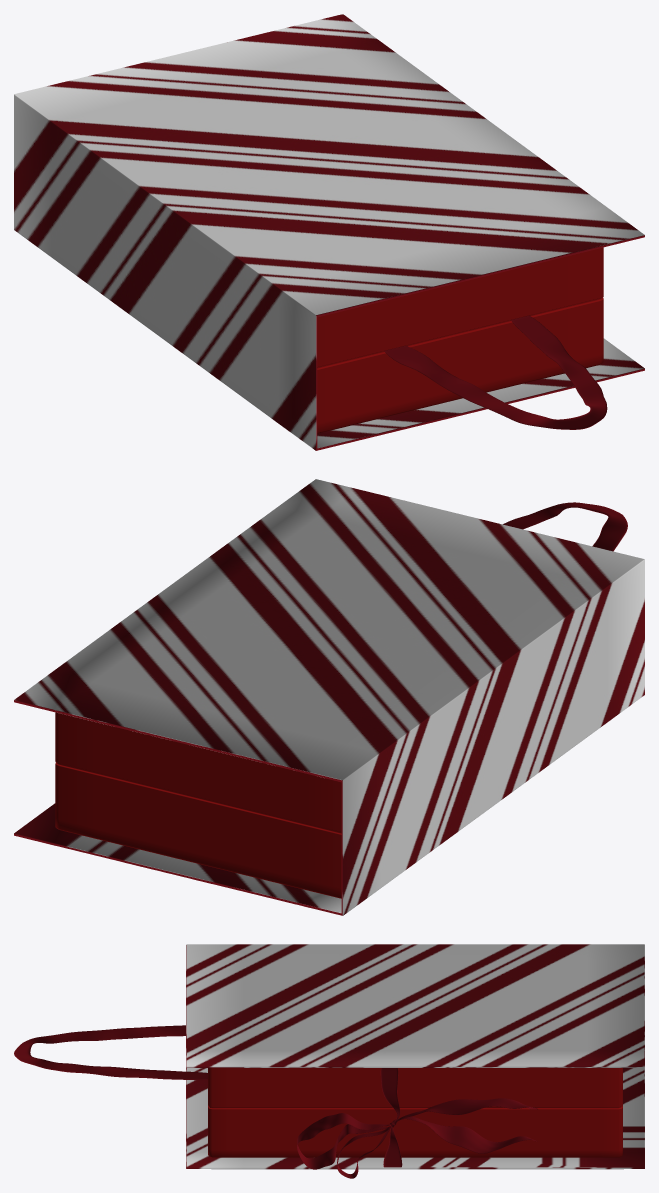
The model's file is gift1.obj.
The picture shows the model from 3 angles, top to bottom: view 1: azimuth 30°, elevation 25°; view 2: azimuth 150°, elevation 25°; view 3: azimuth 270°, elevation 25°; orthographic projection. The views are drawn at different scales.
Visible parts, largest first — view 1: gift_box_1, gift_box, gift_box_2; view 2: gift_box_1, gift_box, gift_box_2; view 3: gift_box_1, gift_box, gift_box_bow, gift_box_2.
Boxes of the visible parts, x1,y1,x2,y2 form: gift_box_1: (14,14,644,450); gift_box: (317,247,603,433); gift_box_2: (384,315,607,429); gift_box_1: (14,479,644,915); gift_box: (55,712,341,898); gift_box_2: (503,502,627,551); gift_box_1: (186,944,644,1169); gift_box: (208,1068,622,1157); gift_box_bow: (297,1068,537,1178); gift_box_2: (14,1025,207,1080).
Bounding box in the file's own units: 12.14 × 4.1 × 22.72.
